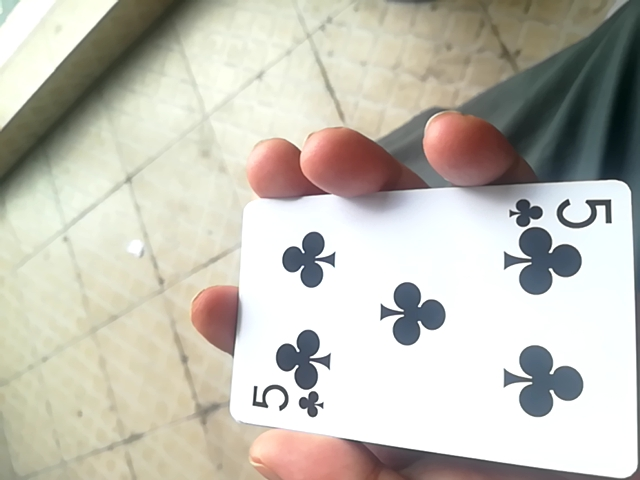mh 5: (233, 177, 636, 475)
